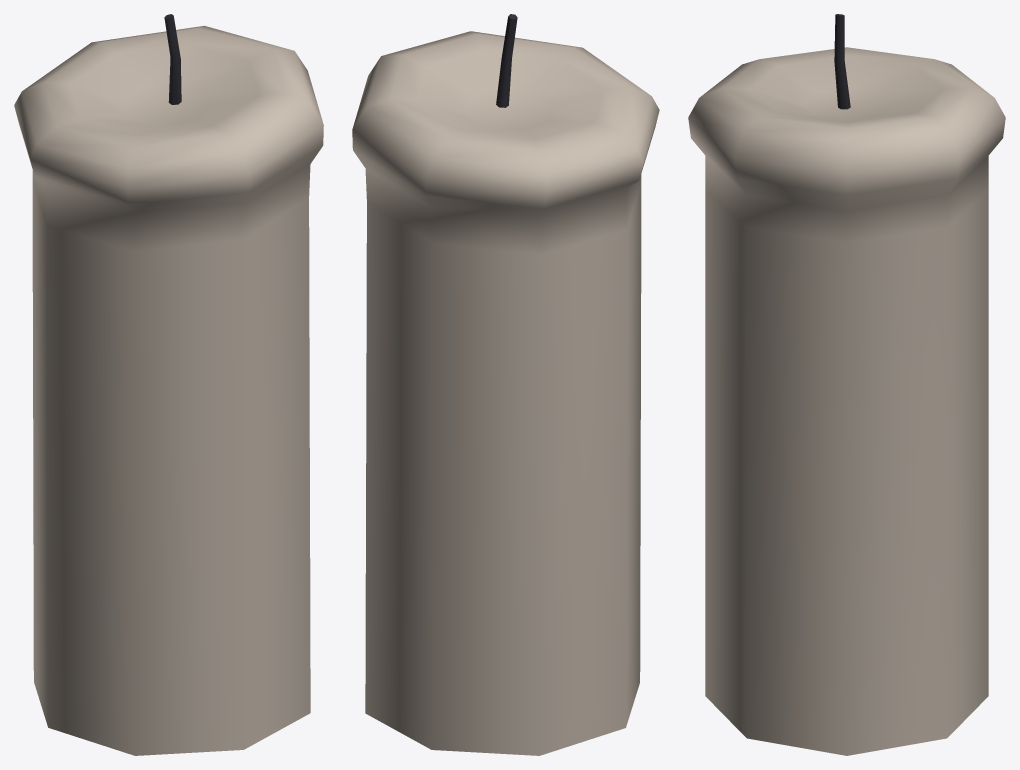
The model's file is Candle_01_Medium.fbx.
3 renders of one model, left to right at view 1: azimuth 30°, elevation 25°; view 2: azimuth 150°, elevation 25°; view 3: azimuth 270°, elevation 25°, orthographic.
Visible parts, largest first — view 1: Candle_01_Medium; view 2: Candle_01_Medium; view 3: Candle_01_Medium.
Boxes of the visible parts, <box> form: Candle_01_Medium: <box>14,14,323,755</box>; Candle_01_Medium: <box>352,14,659,755</box>; Candle_01_Medium: <box>688,14,1005,755</box>.
Bounding box in the file's own units: 0.044 × 0.1041 × 0.0441.
